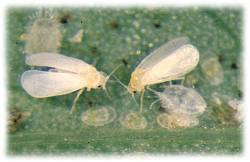whitefly: (20, 51, 119, 114), (119, 33, 200, 104)
